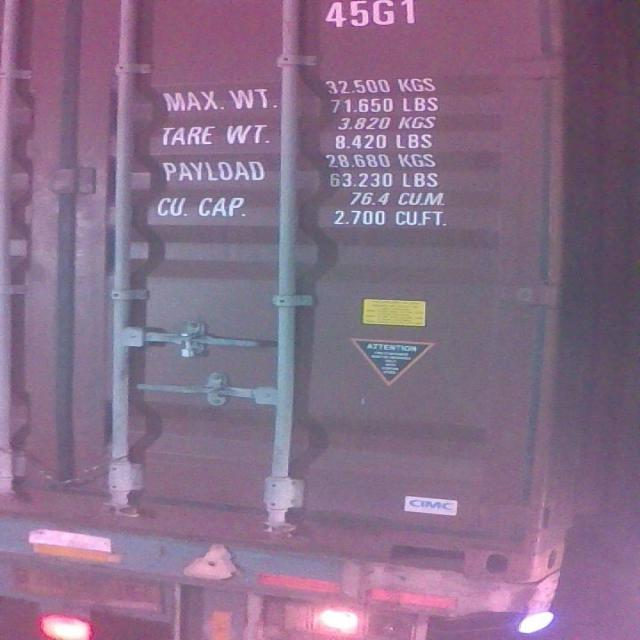seal: (172, 327, 206, 362)
